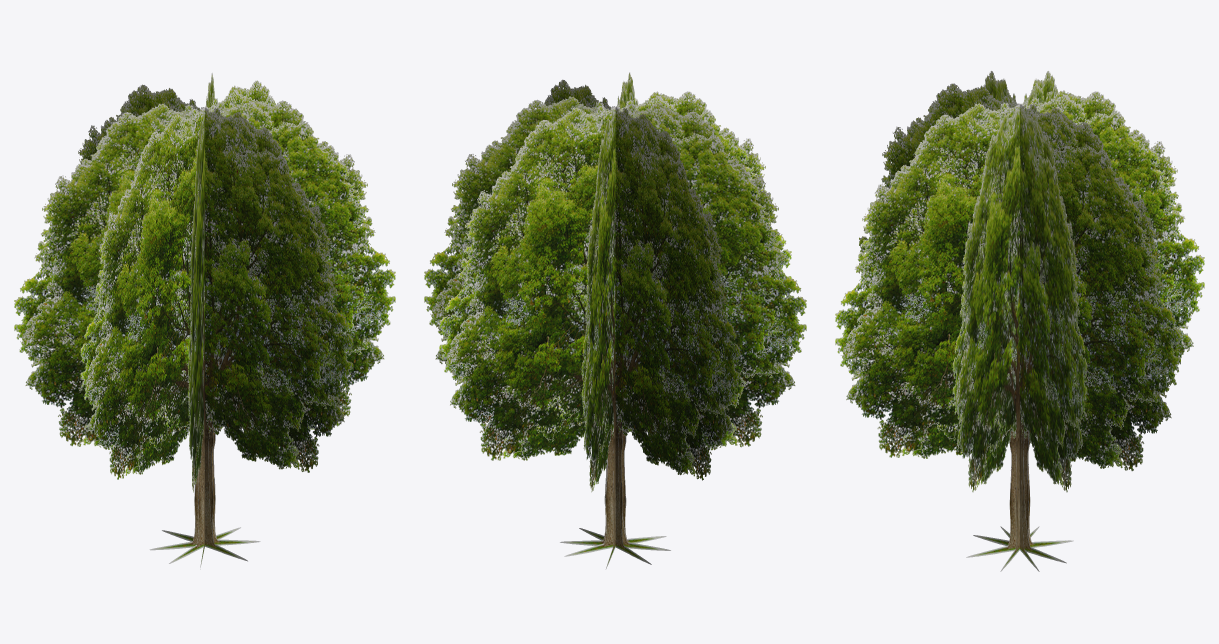
The model's file is Tree.fbx.
3 views of the same model, side by side, from view 1: azimuth 30°, elevation 25°; view 2: azimuth 150°, elevation 25°; view 3: azimuth 270°, elevation 25° (orthographic).
Parts seen in each view (by area): view 1: Trees; view 2: Trees; view 3: Trees.
Part boxes in pixels (x1,y1,x2,y2): Trees: [14, 73, 395, 569]; Trees: [424, 72, 806, 569]; Trees: [835, 71, 1204, 571].
Size of the model in its own units: 643 by 883 by 643.
1 material, 1 textured.
